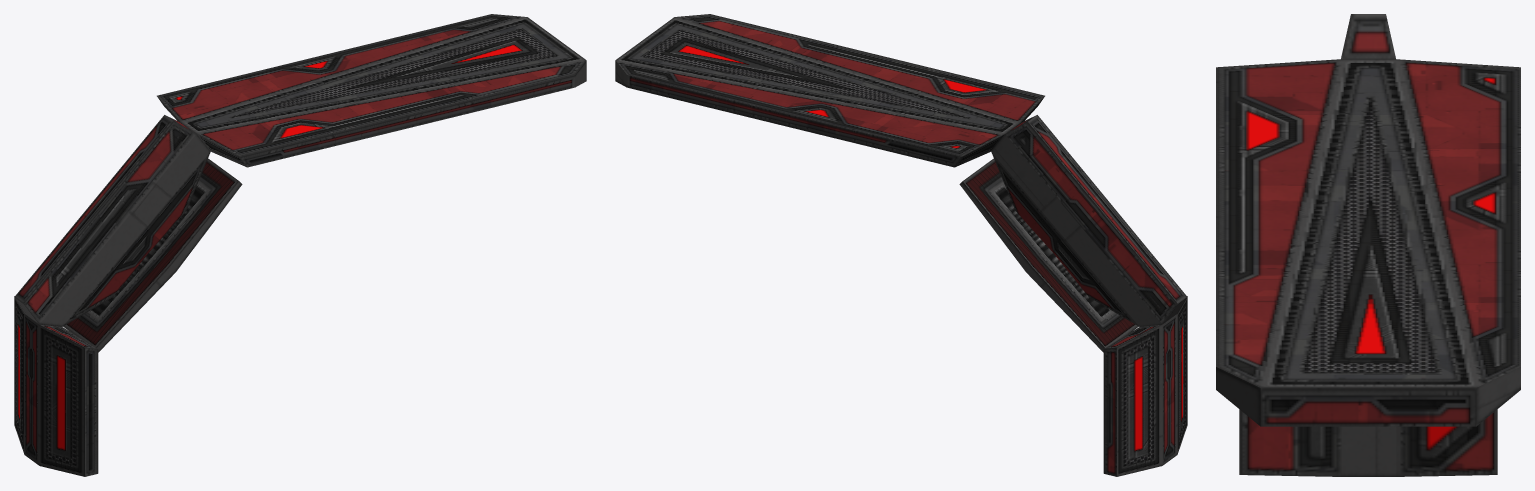
File: BFP_StardockUpperSection01.FBX
3 renders of one model, left to right at view 1: azimuth 30°, elevation 25°; view 2: azimuth 150°, elevation 25°; view 3: azimuth 270°, elevation 25°, orthographic. The views are drawn at different scales.
Visible parts, largest first — view 1: RoofSection01, BFP_UpperStardockSection01, HullSectionLower, ConstructionBeamPanel; view 2: RoofSection01, BFP_UpperStardockSection01, HullSectionLower, ConstructionBeamPanel; view 3: RoofSection01, HullSectionLower, BFP_UpperStardockSection01.
Boxes of the visible parts, x1,y1,x2,y2 form: RoofSection01: (157,14,586,167); BFP_UpperStardockSection01: (14,115,210,326); HullSectionLower: (14,296,98,476); ConstructionBeamPanel: (63,158,242,352); RoofSection01: (615,14,1044,167); BFP_UpperStardockSection01: (991,115,1187,326); HullSectionLower: (1103,296,1187,476); ConstructionBeamPanel: (959,158,1138,352); RoofSection01: (1216,59,1520,426); HullSectionLower: (1239,409,1497,476); BFP_UpperStardockSection01: (1341,14,1395,59).
Size of the model in its own units: 2239 by 1228 by 600.
Materials: 1 (1 with a texture image).
